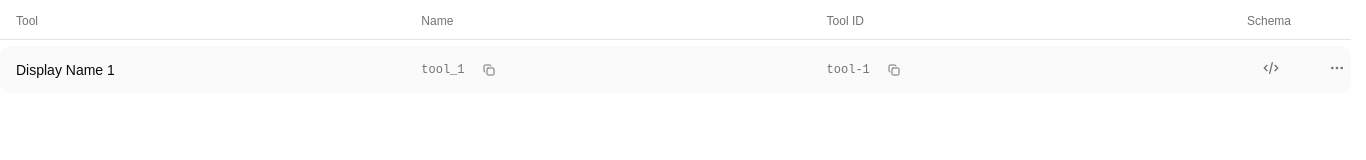
it: ToolsTable › toggle dropdown (onToggleTool provided) › shows 'Deactivate' when the tool is enabled
Click the button named "More options": (1337, 68) [1327,58,1347,78]
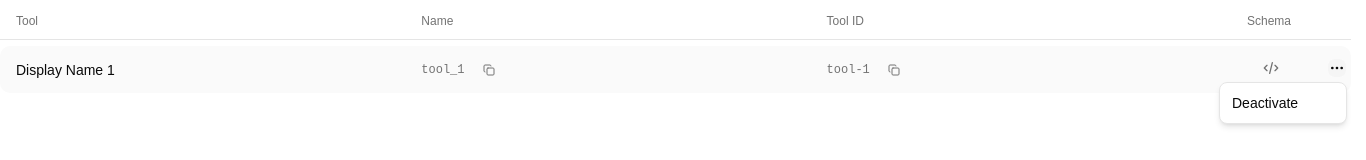
Now the menu item "Deactivate" is shown, box [1232,95,1298,111]
